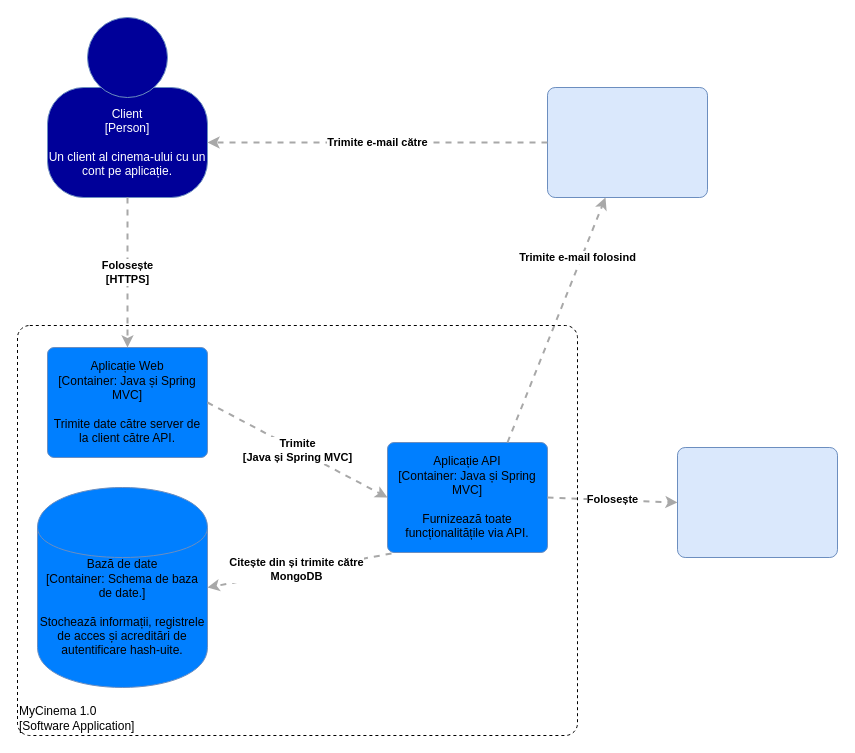
Image size: 855x753. Some labels were removed from this diagram. Each missing label, with the centre of its shape:
"Sistem de email [Software System] Sistem intern de gestionare a emailurilor." belongs at [627,142].
"Sistemul bancar [Software System] Sistem care se ocupă cu gestionarea plăților." belongs at [757,502].
